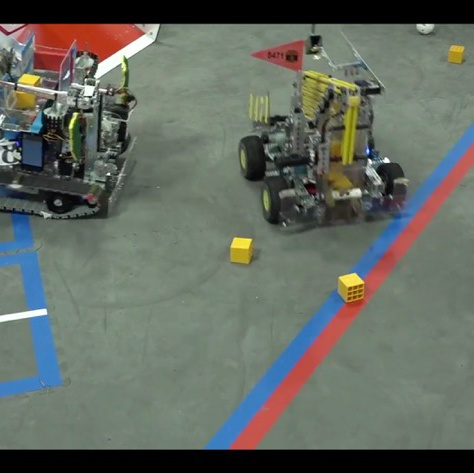robot: (234, 25, 412, 231), (0, 32, 144, 226)
